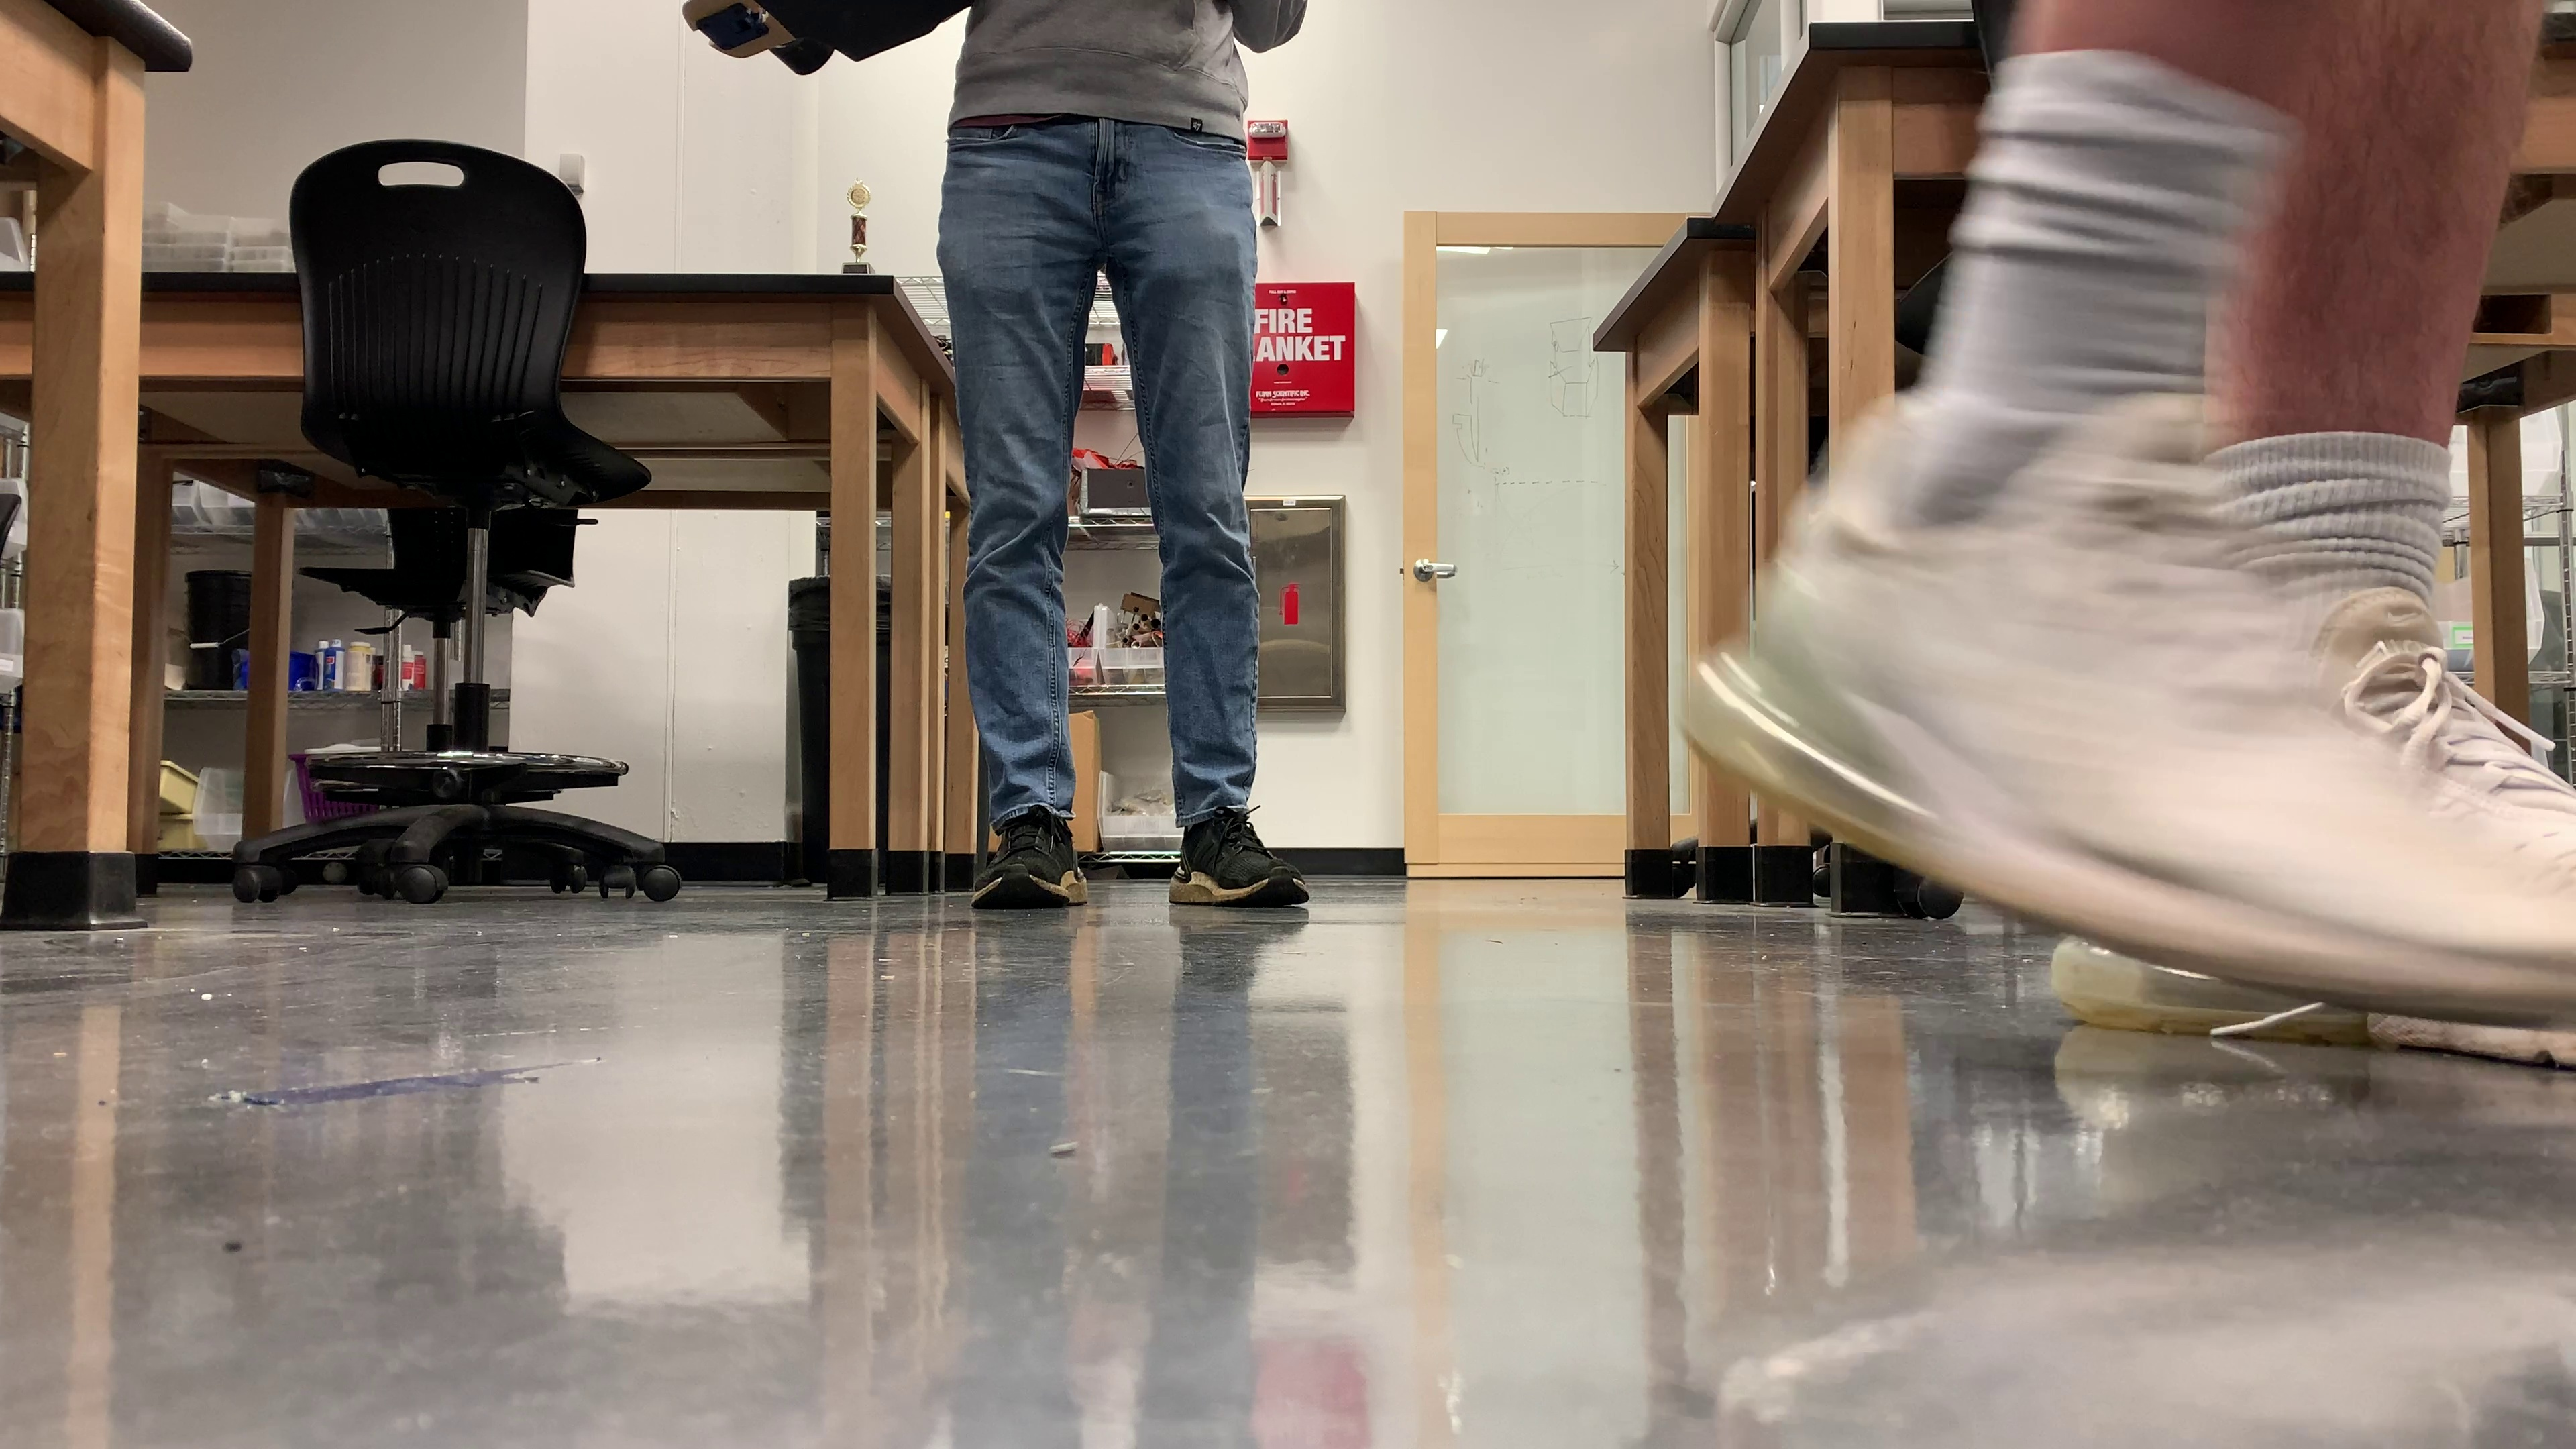shoe: (1166, 814, 1311, 911), (971, 810, 1088, 908)
